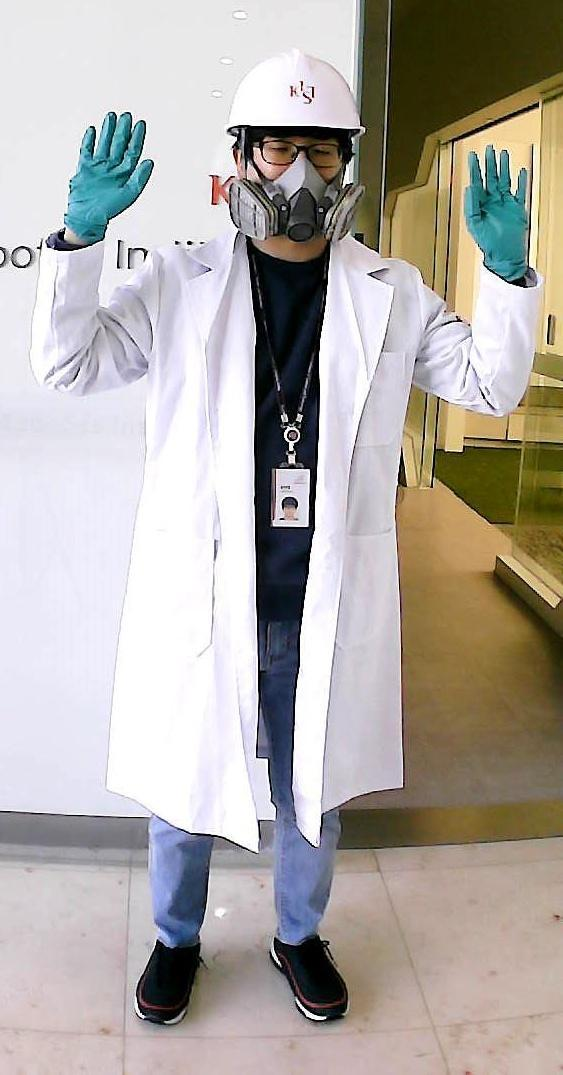lab_coat: (124, 258, 428, 812)
